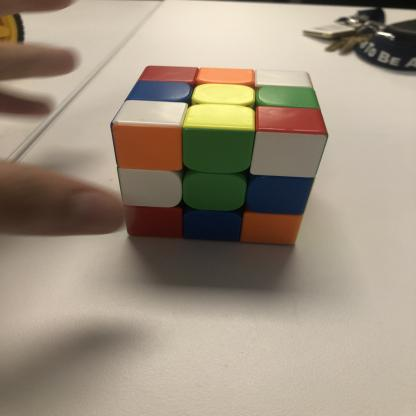UnsolvedCube: (108, 55, 334, 257)
